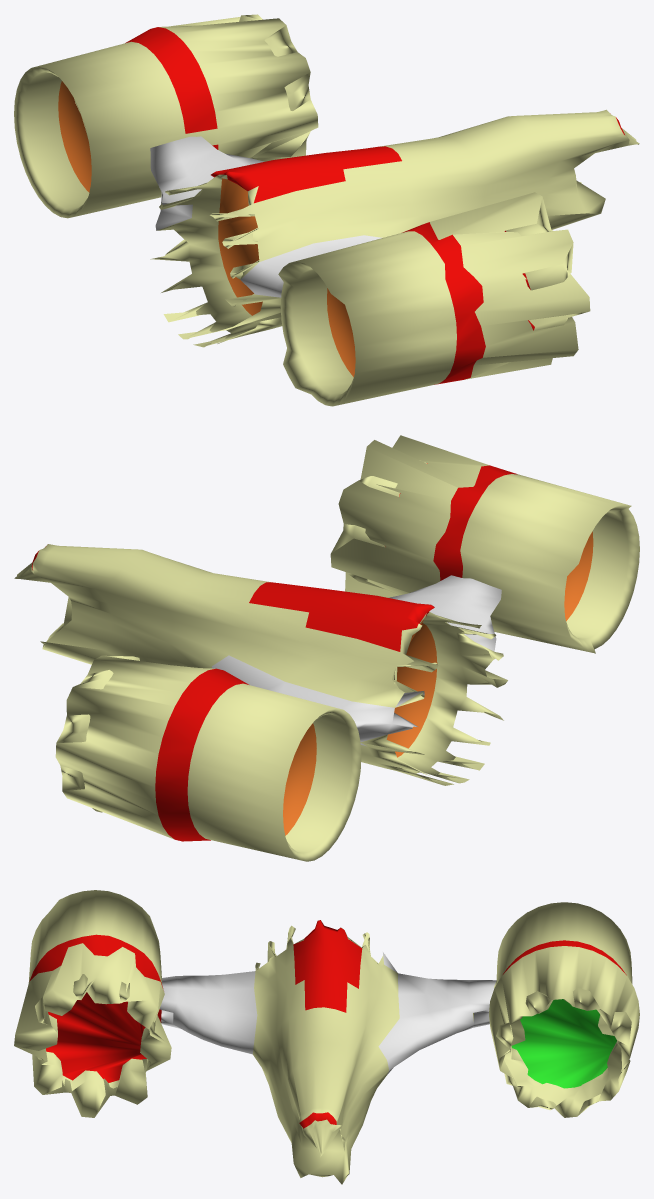
File: vaisseauPlayer.fbx
3 renders of one model, top to bottom at view 1: azimuth 30°, elevation 25°; view 2: azimuth 150°, elevation 25°; view 3: azimuth 270°, elevation 25°, orthographic. The views are drawn at different scales.
Parts seen in each view (by area): view 1: Cylinder; view 2: Cylinder; view 3: Cylinder.
Boxes of the visible parts, x1,y1,x2,y2 form: Cylinder: [14, 14, 639, 406]; Cylinder: [14, 435, 639, 861]; Cylinder: [14, 890, 639, 1184].
Size of the model in its own units: 615 by 243 by 837.
